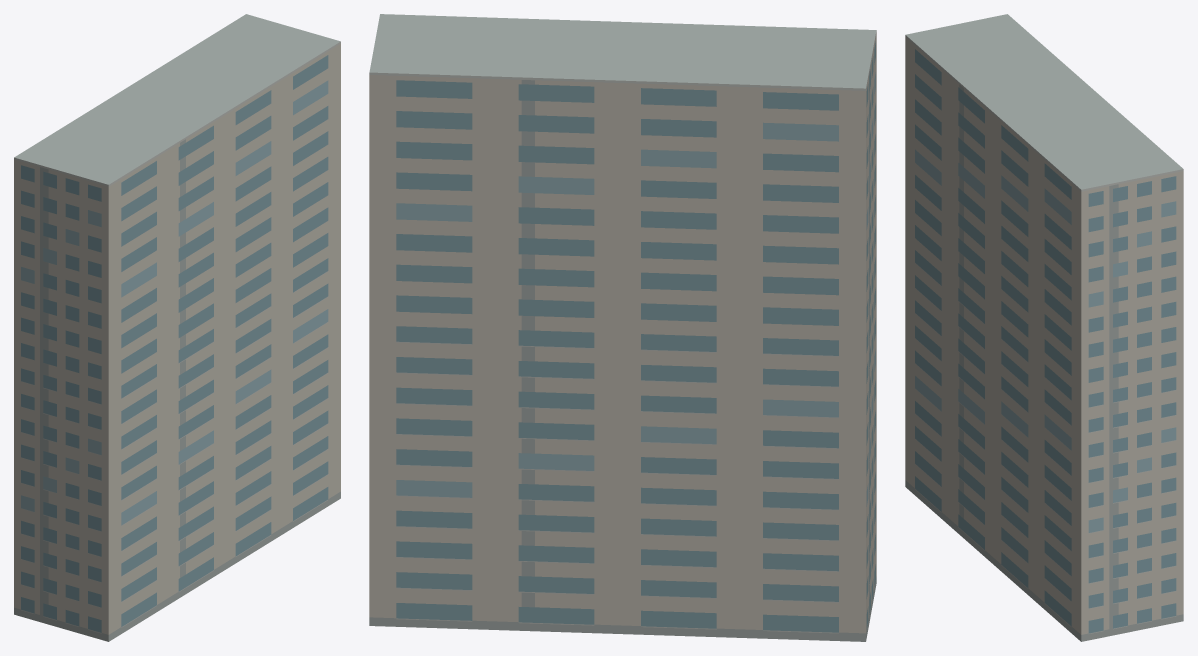
Rendered from residential-f9c1c6a0-ece8-4ae5-bf1c-19627a37c79b.glb.
3 views of the same model, side by side, from view 1: azimuth 30°, elevation 25°; view 2: azimuth 150°, elevation 25°; view 3: azimuth 270°, elevation 25° (orthographic). The views are drawn at different scales.
Visible parts, largest first — view 1: residential-f9c1c6a0-ece8-4ae5-bf1c-19627a37c79b.tmp; view 2: residential-f9c1c6a0-ece8-4ae5-bf1c-19627a37c79b.tmp; view 3: residential-f9c1c6a0-ece8-4ae5-bf1c-19627a37c79b.tmp.
Boxes of the visible parts, left/top/right/bottom form: residential-f9c1c6a0-ece8-4ae5-bf1c-19627a37c79b.tmp: left=14, top=14, right=340, bottom=641; residential-f9c1c6a0-ece8-4ae5-bf1c-19627a37c79b.tmp: left=369, top=14, right=876, bottom=641; residential-f9c1c6a0-ece8-4ae5-bf1c-19627a37c79b.tmp: left=905, top=14, right=1183, bottom=641.
Size of the model in its own units: 46.69 by 56 by 31.25.
